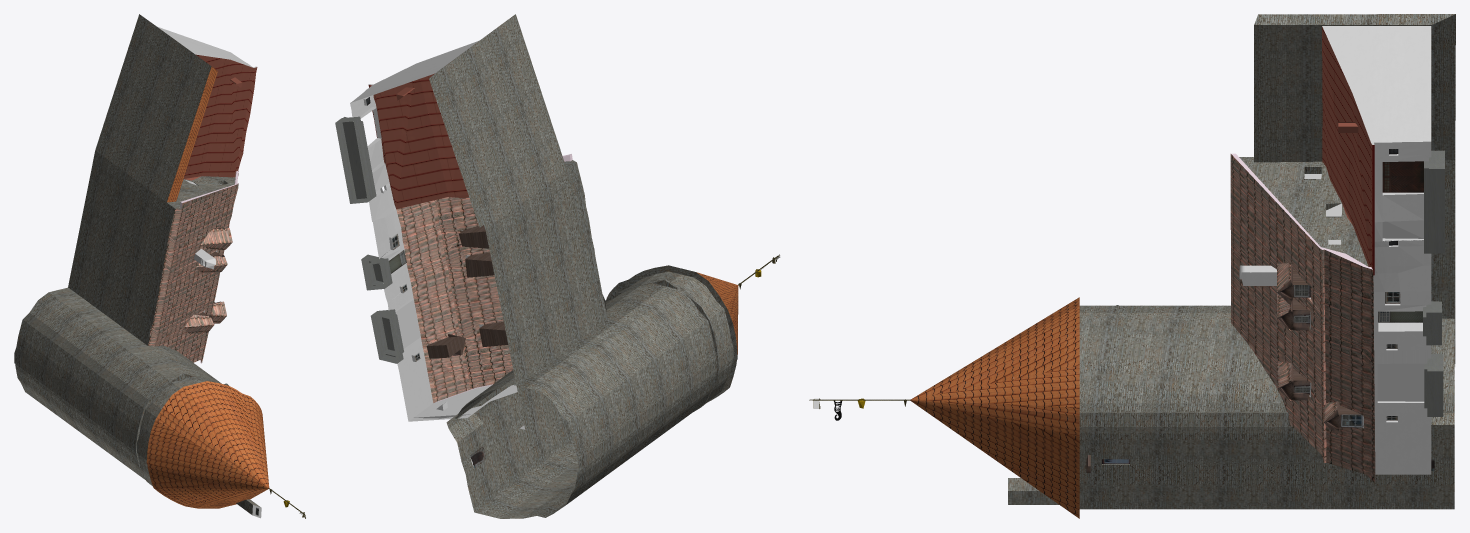
The model's file is Kooli_1a-origo.obj.
3 views of the same model, side by side, from view 1: azimuth 30°, elevation 25°; view 2: azimuth 150°, elevation 25°; view 3: azimuth 270°, elevation 25° (orthographic). The views are drawn at different scales.
Parts seen in each view (by area): view 1: Kooli_1a; view 2: Kooli_1a; view 3: Kooli_1a.
Boxes of the visible parts, left/top/right/bottom form: Kooli_1a: left=14, top=14, right=305, bottom=518; Kooli_1a: left=335, top=14, right=780, bottom=518; Kooli_1a: left=809, top=14, right=1455, bottom=518.
Size of the model in its own units: 22.06 by 36.5 by 40.71.
